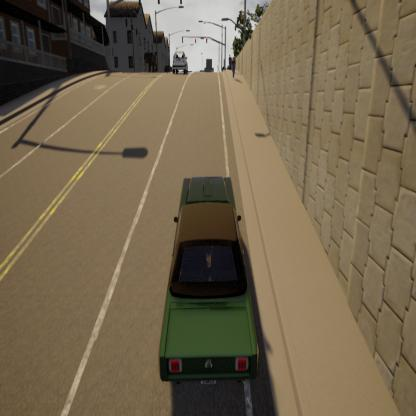Cars: (149, 167, 266, 396), (170, 48, 192, 76)
Pedestrian: (230, 56, 240, 86), (227, 51, 232, 73)
